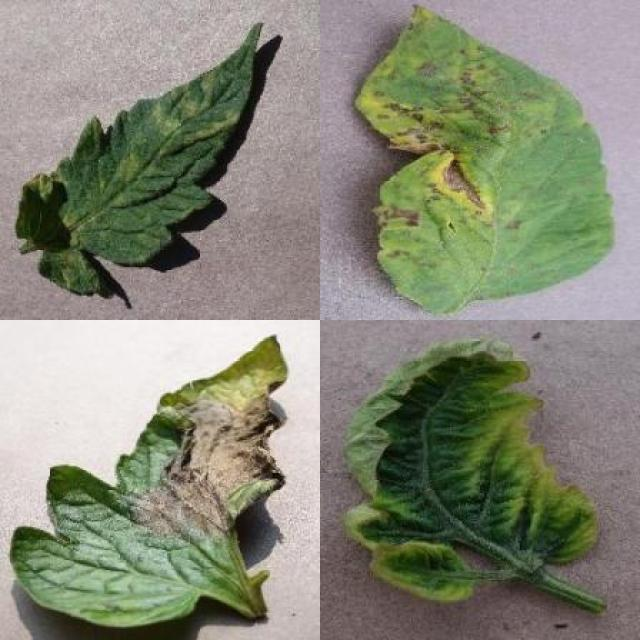Late Blight: (5, 333, 288, 628)
Leaf Mold: (16, 22, 264, 294)
Septoria: (357, 3, 613, 316)
Yellow Leaf Curl Virus: (346, 336, 601, 600)
